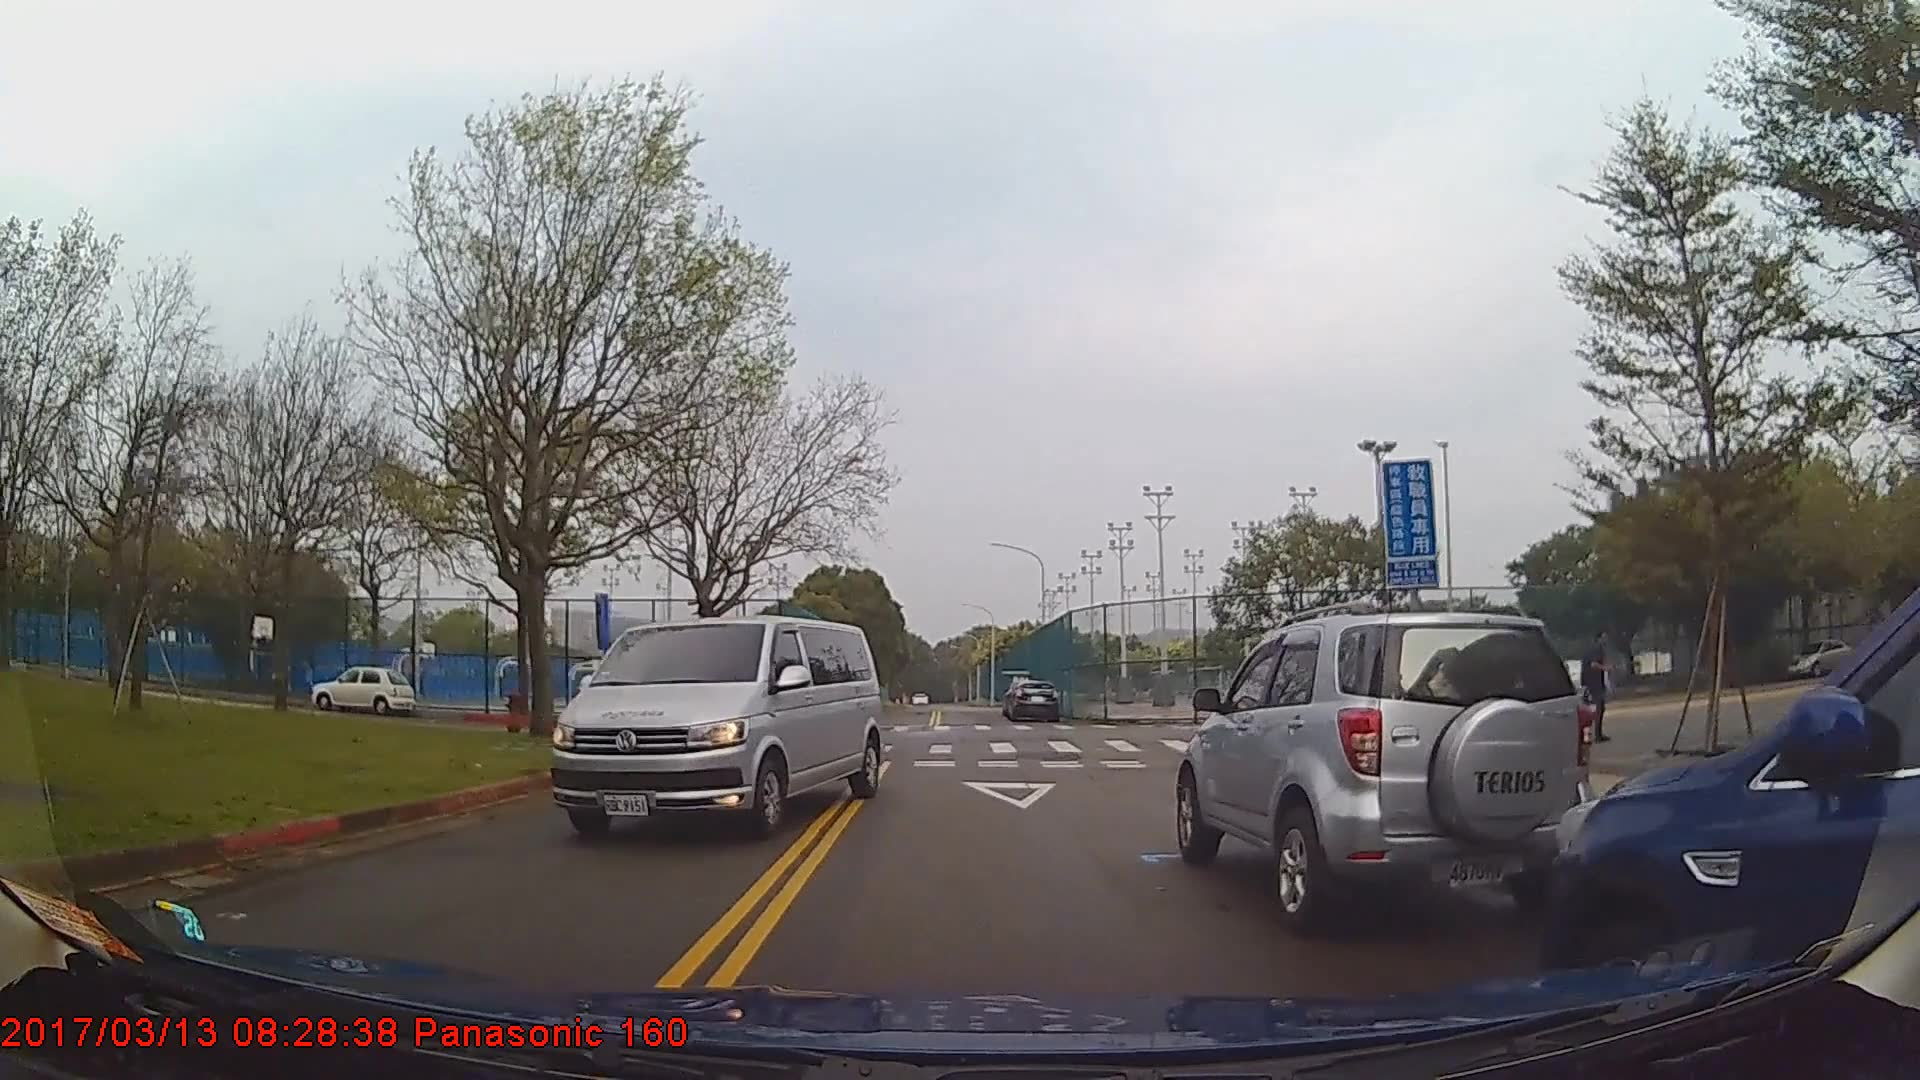pedestrian: (1570, 619, 1631, 752)
vehicle: (1544, 598, 1920, 1031), (1174, 613, 1594, 929), (550, 613, 884, 841), (307, 663, 415, 714), (1784, 638, 1858, 680), (1006, 679, 1062, 723)
